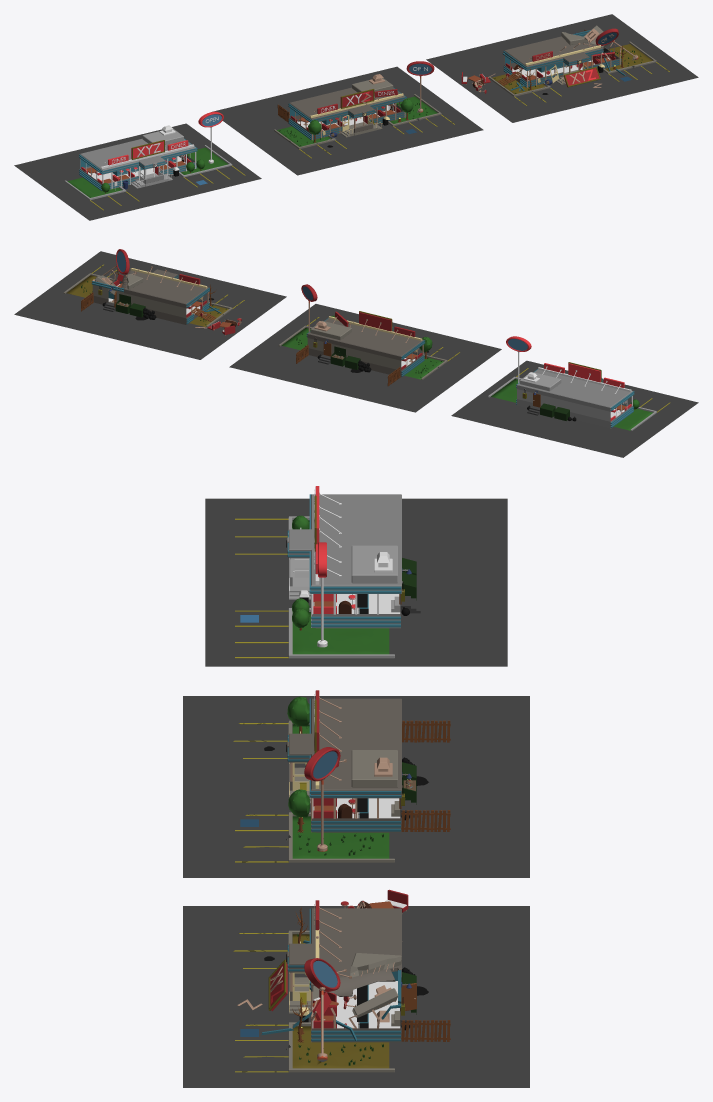
The picture shows the model from 3 angles, top to bottom: view 1: azimuth 30°, elevation 25°; view 2: azimuth 150°, elevation 25°; view 3: azimuth 270°, elevation 25°; orthographic projection. The views are drawn at different scales.
Visible parts, largest first — view 1: Plane.004, Plane.007, Plane, Cube.248, Cube.001, Cube.163, Cube.247, Cube.002, Cube.162, Cube.197, Cube.055, Cube.111 (+11 smaller); view 2: Plane.007, Plane.004, Plane, Cube.001, Cube.163, Cube.248, Cube.002, Cube.247, Cube.162, Cube.015, Cube.150, Cube.010 (+5 smaller); view 3: Plane.007, Plane.004, Plane, Cube.001, Cube.163, Cube.248, Cube.111, Cube.197, Cube.055, Cube.247, Cube.015, Cube.002 (+9 smaller).
Boxes of the visible parts, left/top/right/bottom form: Plane.004: left=212, top=66, right=483, bottom=175; Plane.007: left=426, top=14, right=698, bottom=122; Plane: left=14, top=123, right=261, bottom=220; Cube.248: left=504, top=36, right=603, bottom=70; Cube.001: left=79, top=138, right=195, bottom=174; Cube.163: left=289, top=87, right=405, bottom=121; Cube.247: left=504, top=35, right=619, bottom=87; Cube.002: left=80, top=155, right=194, bottom=189; Cube.162: left=289, top=104, right=404, bottom=139; Cube.197: left=605, top=44, right=652, bottom=71; Cube.055: left=181, top=147, right=228, bottom=174; Cube.111: left=390, top=96, right=437, bottom=123; Plane.007: left=14, top=251, right=286, bottom=359; Plane.004: left=229, top=304, right=501, bottom=412; Plane: left=451, top=360, right=698, bottom=457; Cube.001: left=516, top=369, right=632, bottom=411; Cube.163: left=307, top=318, right=423, bottom=360; Cube.248: left=121, top=270, right=208, bottom=307; Cube.002: left=517, top=389, right=632, bottom=428; Cube.247: left=92, top=279, right=208, bottom=324; Cube.162: left=307, top=338, right=423, bottom=377; Cube.015: left=519, top=372, right=561, bottom=391; Cube.150: left=310, top=321, right=351, bottom=340; Cube.010: left=568, top=363, right=600, bottom=382; Plane.007: left=183, top=906, right=529, bottom=1087; Plane.004: left=183, top=696, right=529, bottom=877; Plane: left=205, top=498, right=507, bottom=666; Cube.001: left=311, top=494, right=401, bottom=593; Cube.163: left=311, top=698, right=401, bottom=798; Cube.248: left=311, top=908, right=401, bottom=996; Cube.111: left=292, top=816, right=389, bottom=858; Cube.197: left=292, top=1026, right=389, bottom=1068; Cube.055: left=292, top=612, right=389, bottom=654; Cube.247: left=312, top=981, right=400, bottom=1042; Cube.015: left=351, top=545, right=397, bottom=583; Cube.002: left=312, top=594, right=400, bottom=628.
Size of the model in its own units: 129518 by 10395 by 32214.
